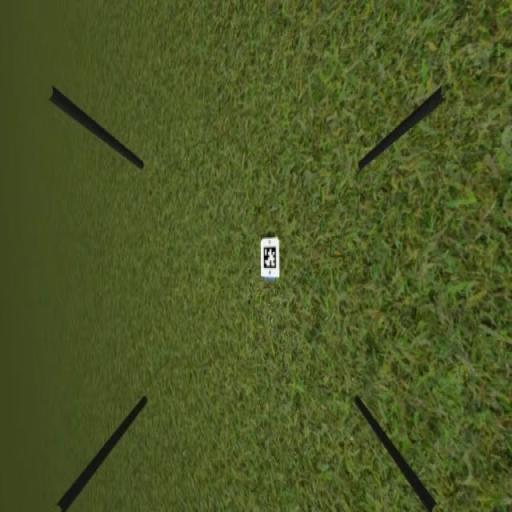UGV: (258, 235, 282, 280)
